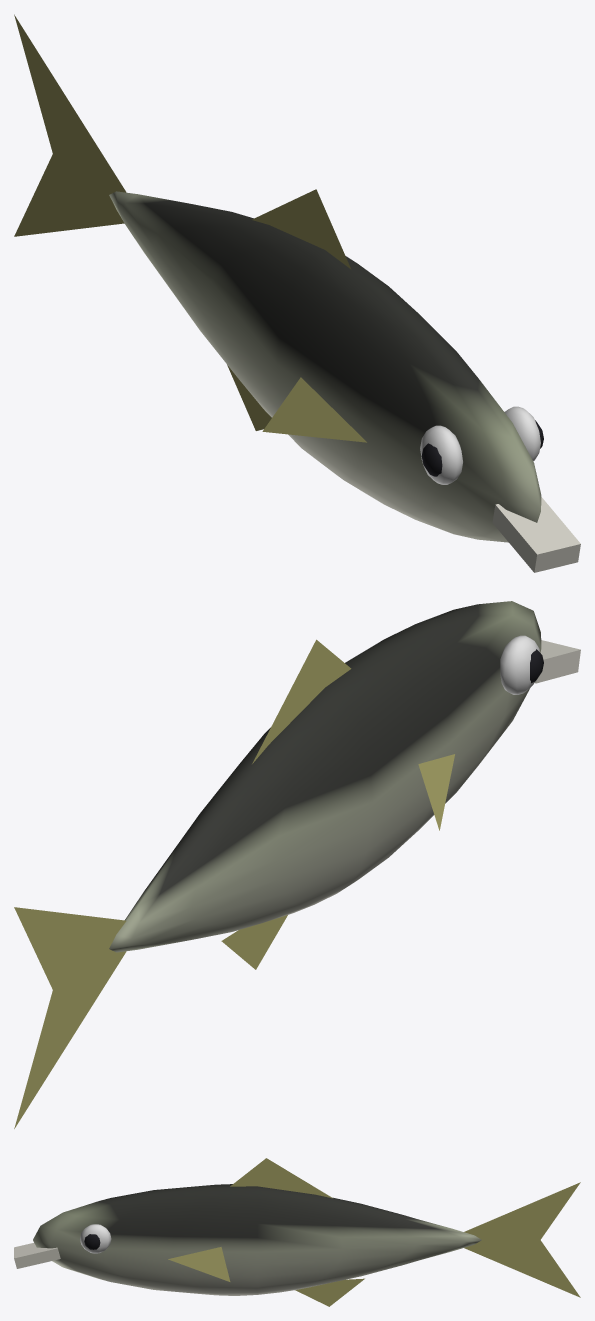
File: snook-BvAmAyST.glb
3 views of the same model, one above another, from view 1: azimuth 30°, elevation 25°; view 2: azimuth 150°, elevation 25°; view 3: azimuth 270°, elevation 25° (orthographic). The views are drawn at different scales.
Visible parts, largest first — view 1: snook; view 2: snook; view 3: snook.
Part boxes in pixels (<box>): snook: <box>14,14,580,572</box>; snook: <box>14,601,580,1128</box>; snook: <box>14,1158,580,1306</box>.
Size of the model in its own units: 0.237 by 0.3658 by 1.26.
